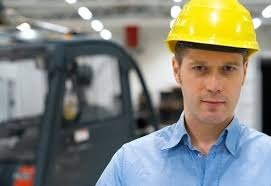helmet: (167, 1, 263, 55)
person with partial safety: (105, 1, 271, 184)
